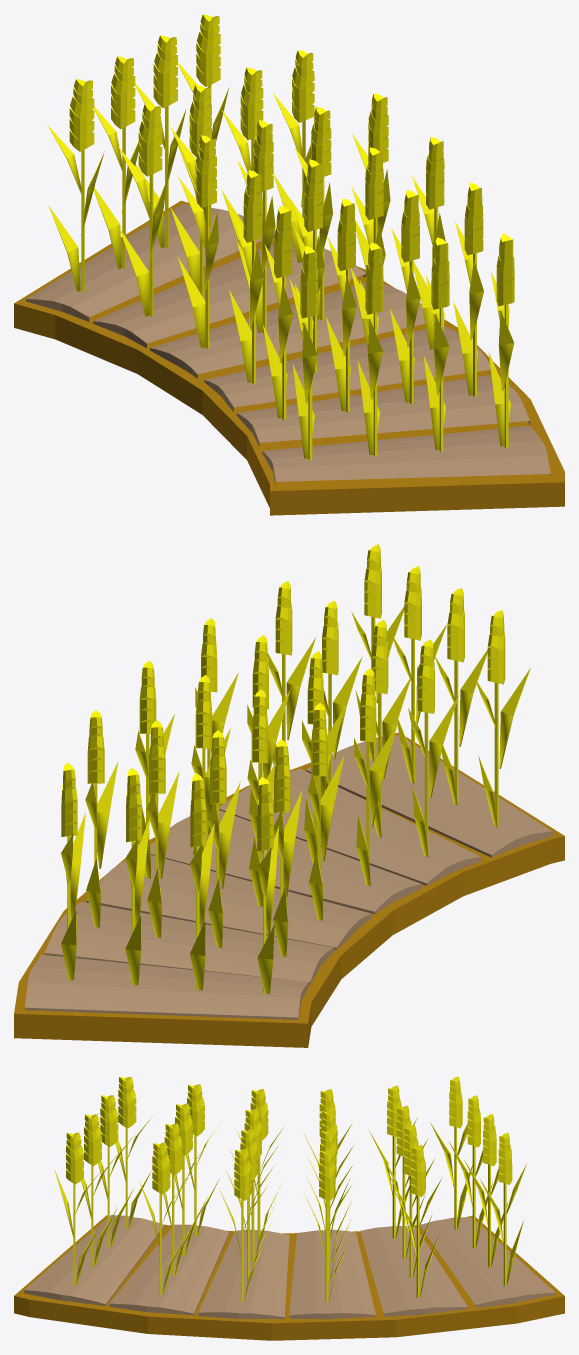
3 renders of one model, top to bottom at view 1: azimuth 30°, elevation 25°; view 2: azimuth 150°, elevation 25°; view 3: azimuth 270°, elevation 25°, orthographic. The views are drawn at different scales.
Visible parts, largest first — view 1: Cylinder.049, Cube.008, Cube.012, Cube.002, Cube.005, Cube.016, Cube.023, Cube.022, Cube.024, Cube.025, Cube.027, Cube.026 (+13 smaller); view 2: Cylinder.049, Cube.023, Cube.027, Cube.016, Cube.012, Cube.029, Cube.006, Cube.009, Cube.010, Cube.003, Cube.008, Cube.001 (+13 smaller); view 3: Cylinder.049, Cube.001, Cube.026, Cube.006, Cube.027, Cube.002, Cube.005, Cube.022, Cube.028, Cube.029, Cube.011, Cube.003 (+13 smaller).
Boxes of the visible parts, bbox=[...] form: Cylinder.049: bbox=[14, 200, 564, 515]; Cube.008: bbox=[118, 104, 167, 316]; Cube.012: bbox=[178, 135, 218, 348]; Cube.002: bbox=[47, 79, 104, 291]; Cube.005: bbox=[90, 56, 139, 269]; Cube.016: bbox=[229, 170, 263, 383]; Cube.023: bbox=[263, 205, 292, 419]; Cube.022: bbox=[453, 182, 483, 396]; Cube.024: bbox=[390, 190, 420, 403]; Cube.025: bbox=[326, 198, 356, 412]; Cube.027: bbox=[292, 246, 318, 460]; Cube.026: bbox=[488, 233, 514, 447]; Cylinder.049: bbox=[14, 732, 564, 1047]; Cube.023: bbox=[408, 639, 458, 857]; Cube.027: bbox=[474, 610, 530, 827]; Cube.016: bbox=[354, 668, 397, 886]; Cube.012: bbox=[307, 702, 344, 920]; Cube.029: bbox=[434, 588, 487, 805]; Cube.006: bbox=[85, 710, 118, 927]; Cube.009: bbox=[146, 720, 179, 937]; Cube.010: bbox=[207, 730, 240, 947]; Cube.003: bbox=[125, 768, 150, 985]; Cube.008: bbox=[273, 739, 302, 956]; Cube.001: bbox=[61, 763, 85, 980]; Cylinder.049: bbox=[14, 1215, 564, 1340]; Cube.001: bbox=[480, 1133, 526, 1286]; Cube.026: bbox=[54, 1132, 99, 1284]; Cube.006: bbox=[393, 1145, 441, 1297]; Cube.027: bbox=[115, 1076, 151, 1228]; Cube.002: bbox=[430, 1076, 472, 1229]; Cube.005: bbox=[449, 1095, 495, 1248]; Cube.022: bbox=[139, 1142, 184, 1294]; Cube.028: bbox=[81, 1114, 117, 1266]; Cube.029: bbox=[98, 1095, 134, 1247]; Cube.011: bbox=[303, 1149, 352, 1301]; Cube.003: bbox=[464, 1114, 510, 1267].
Size of the model in its own units: 1325 by 999 by 2856.
